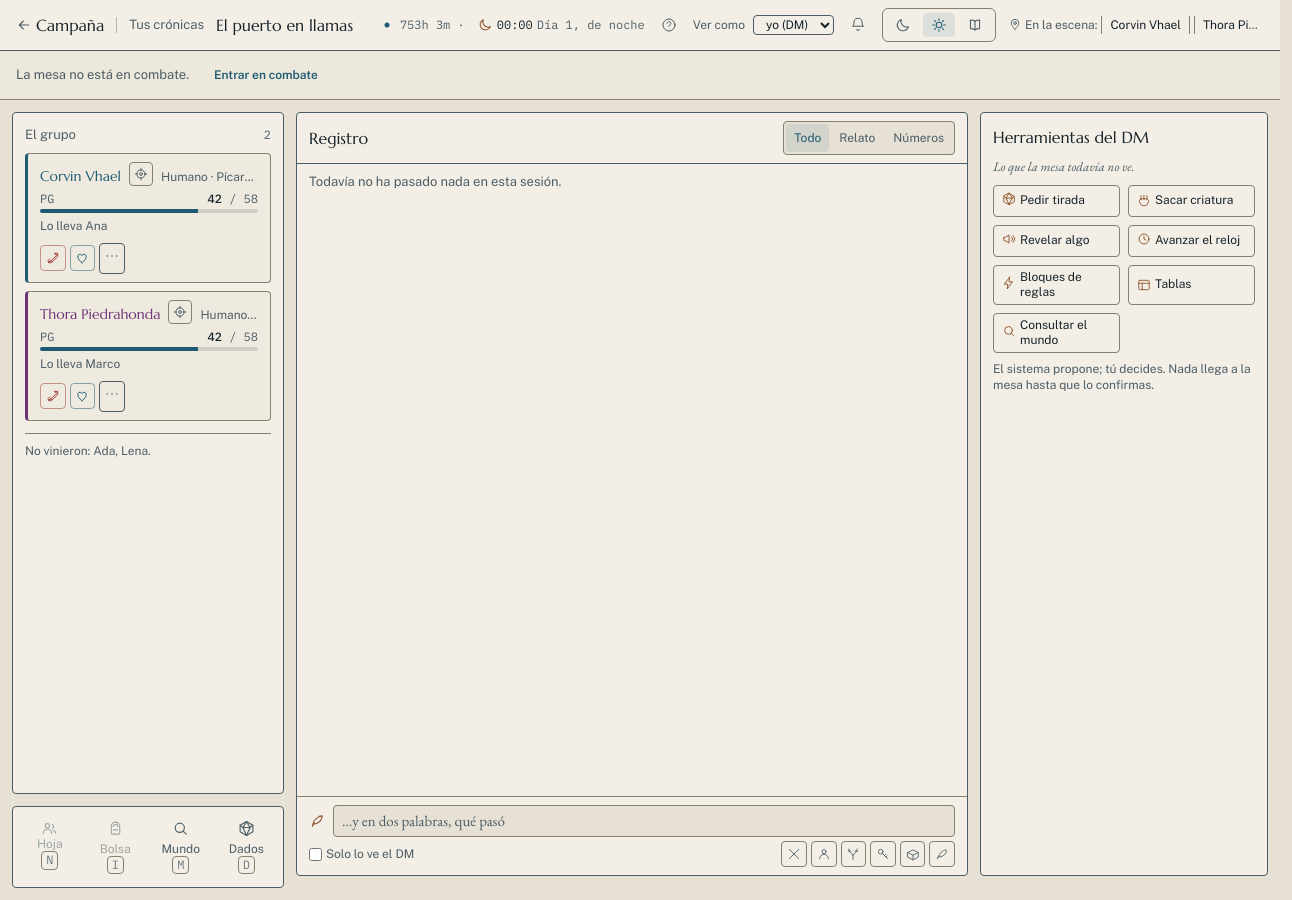
Scenario: el registro en vivo › «ver el registro como» vuelve a pedir el log CON otro espectador: el DM ve menos, no más
This screenshot has width=1292, height=900.
Select "Ana" in the dropdown named "Ver el registro como": (794, 25) [753,15,834,35]
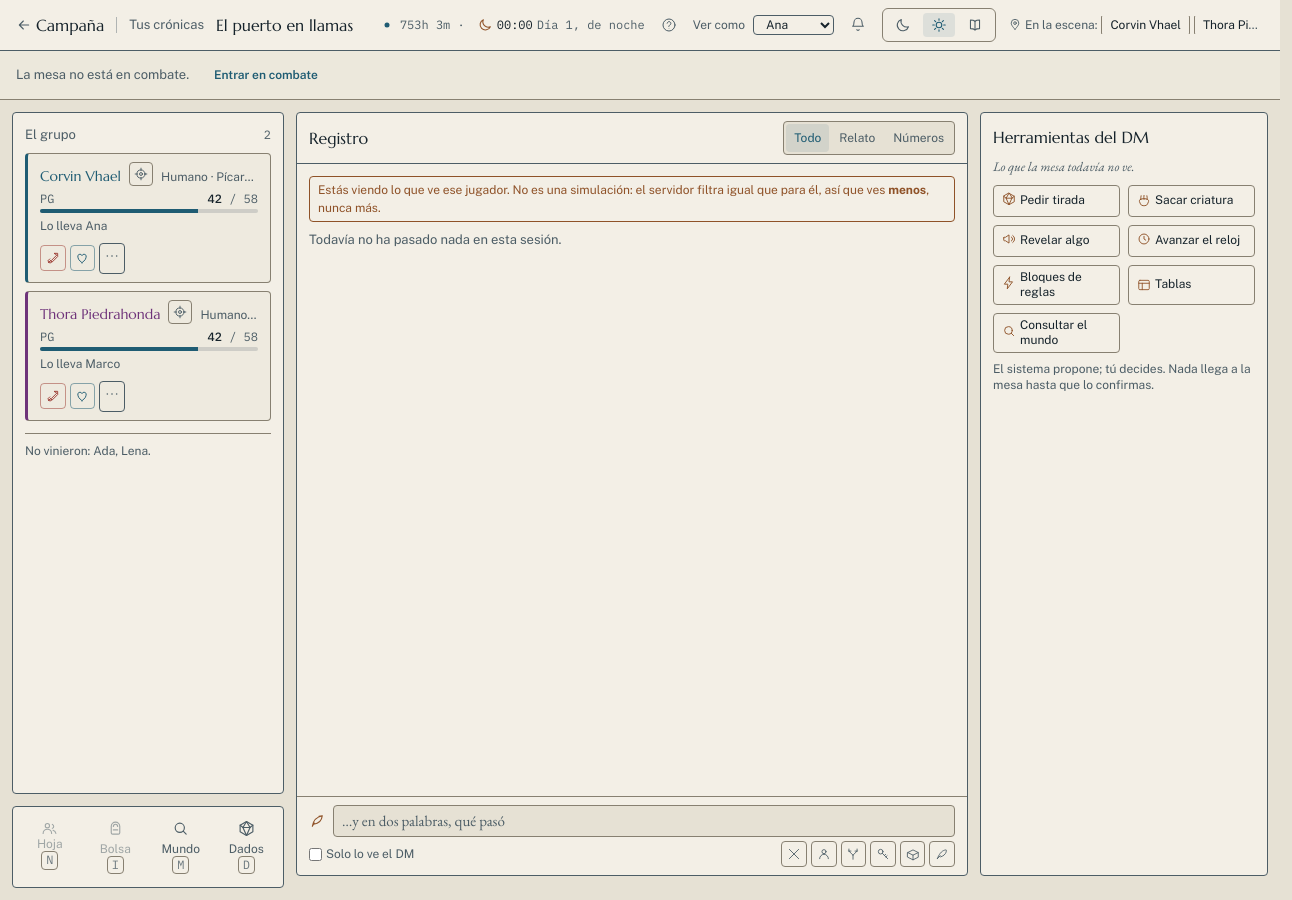
Expected: the element named "Registro de la sesión" shows "ves menos, nunca más", [296,112,968,876]
